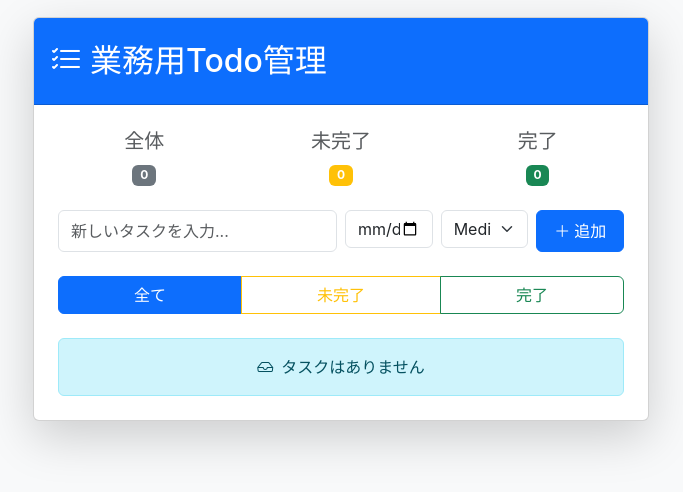
Scenario: TodoApp コンポーネント › タスクを追加できる
The width and height of the screenshot is (683, 492).
Type "テストタスク" into the field with placeholder "新しいタスクを入力..." at (198, 231), box [58, 210, 337, 252]
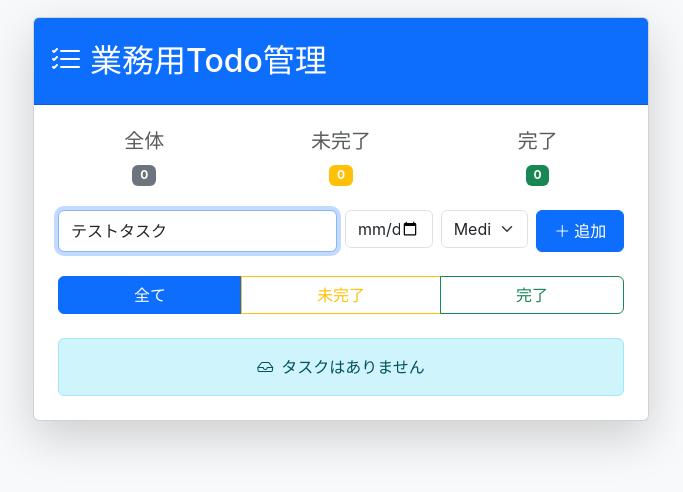
Type "2025-12-31" into the date field named "due-date" at (389, 229), box [345, 210, 433, 248]
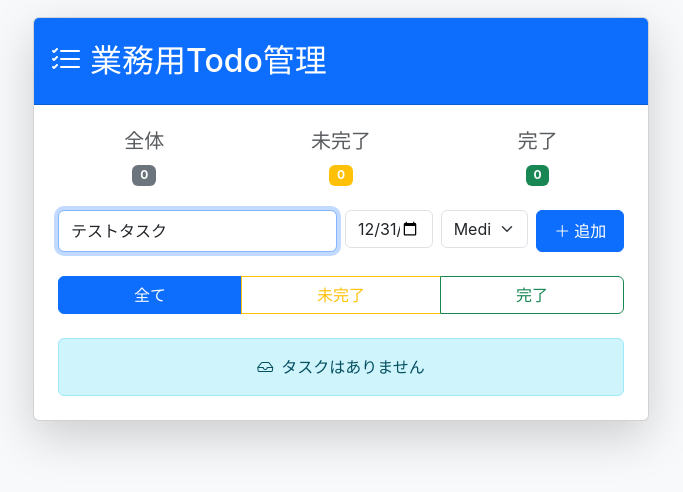
Select "High" in the dropdown named "priority-select" at (485, 229), box [441, 210, 528, 248]
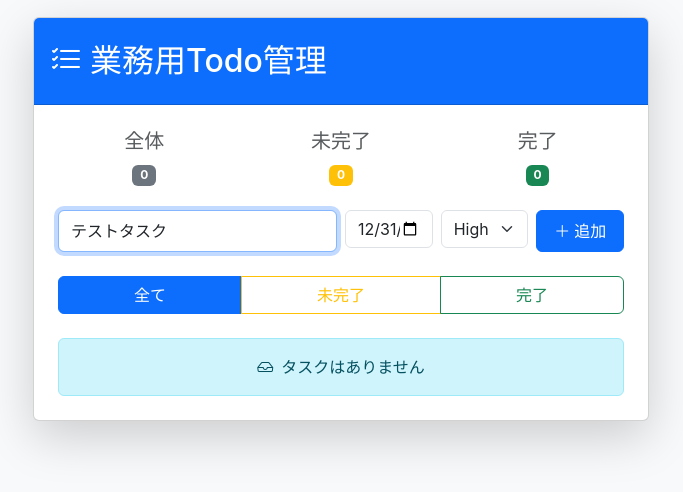
Click the button "追加" at (580, 231), box [536, 210, 624, 252]
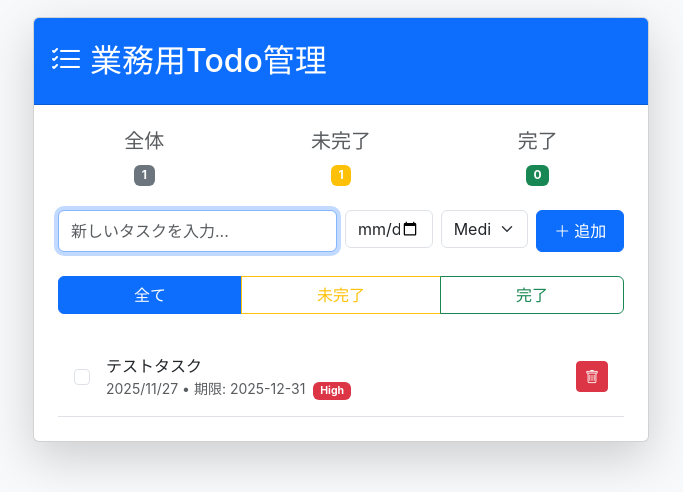
Result: the text "テストタスク" is shown at [106, 356, 202, 376]
